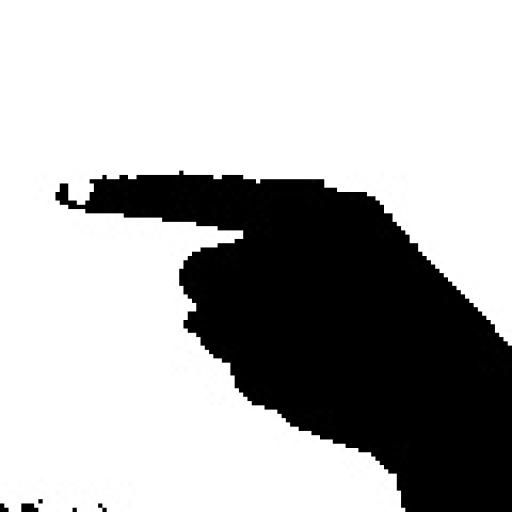index_left: (51, 166, 508, 512)
